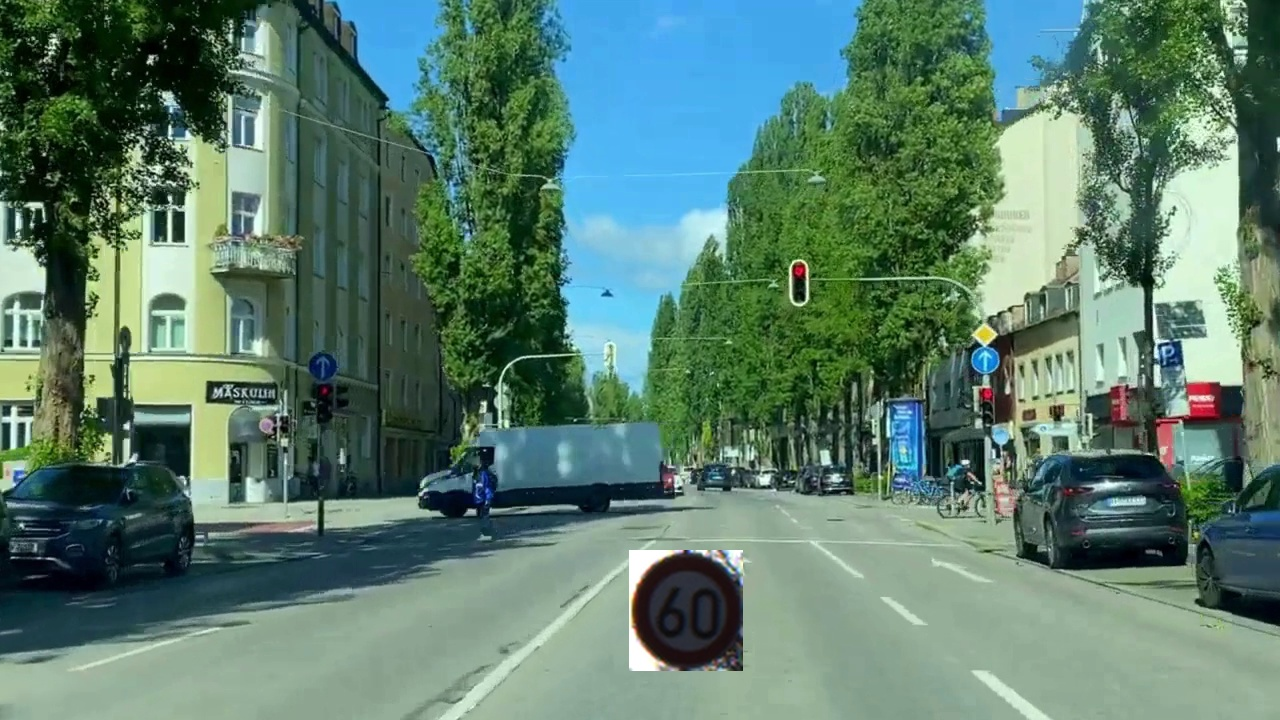Speed 60: (629, 550, 743, 671)
